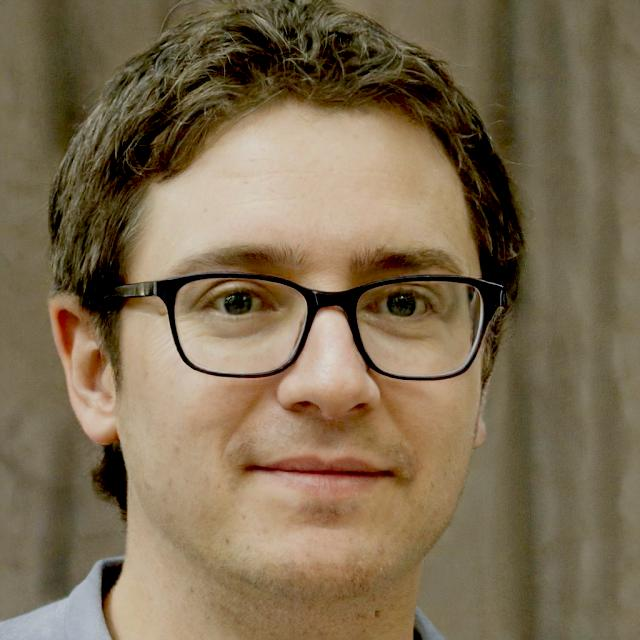lens: (175, 278, 308, 376), (356, 281, 485, 379)
